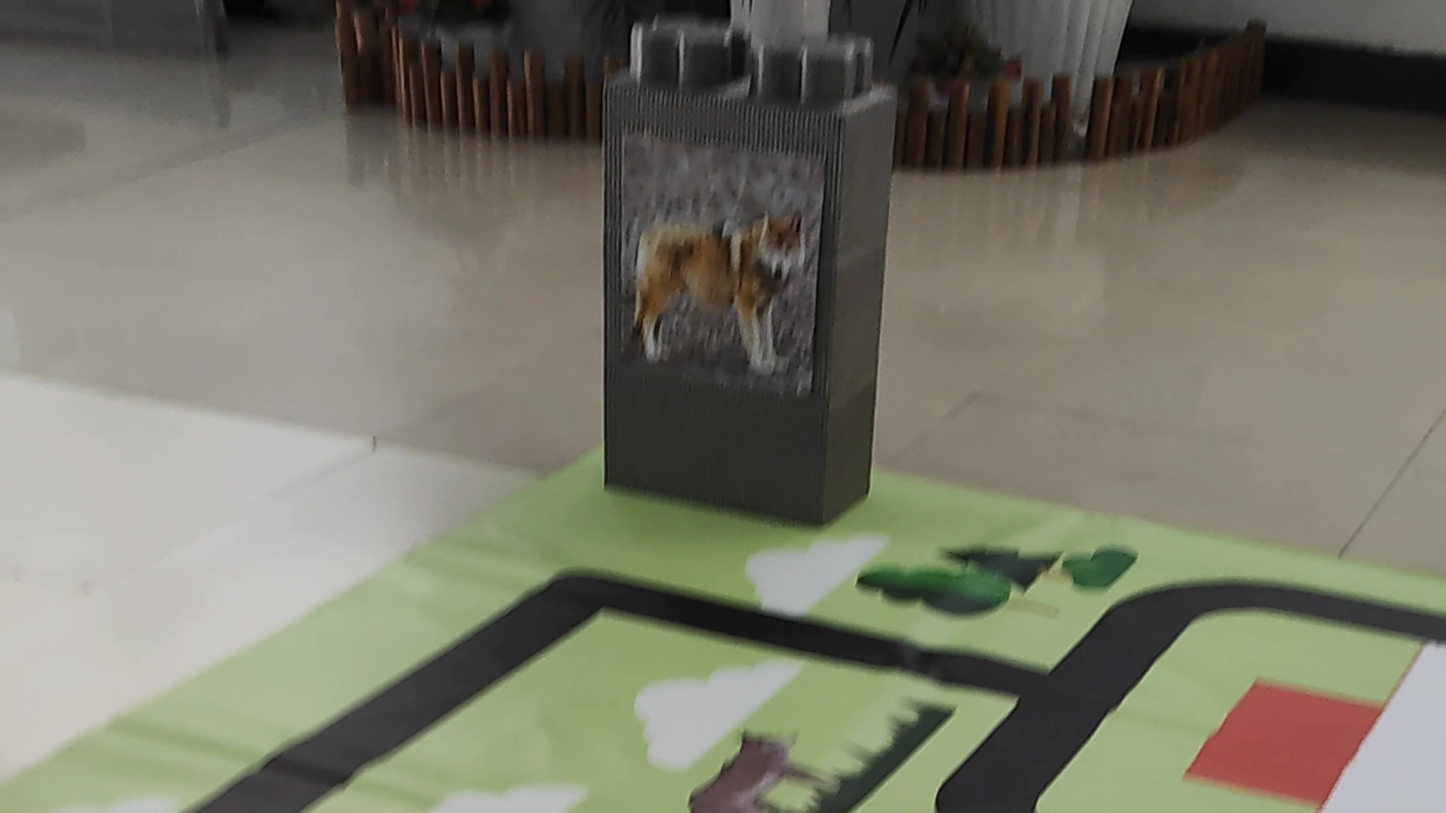wolf: (621, 197, 812, 378)
